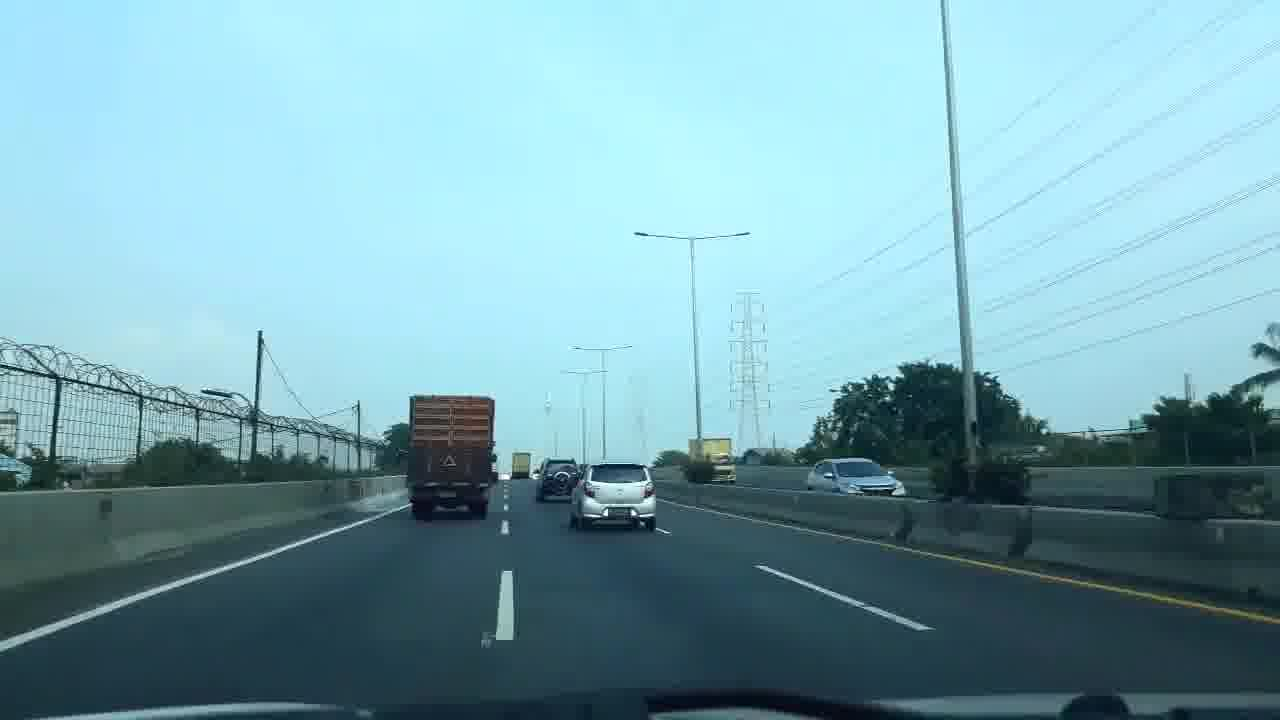plate_positive: (608, 507, 631, 518), (440, 490, 457, 498)
